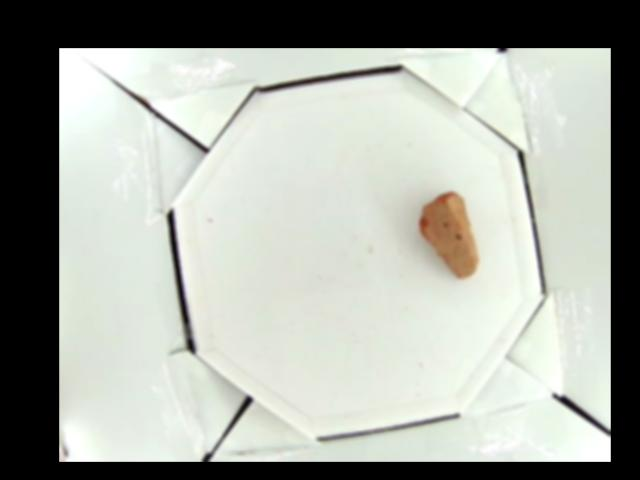Brisk: (417, 190, 481, 280)
